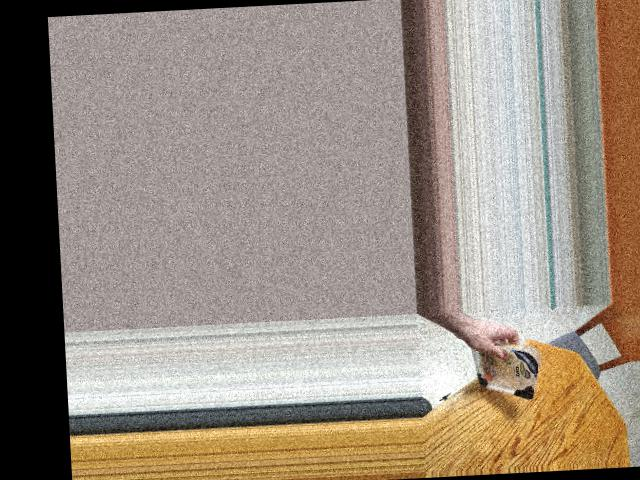cheese: (468, 342, 544, 395)
